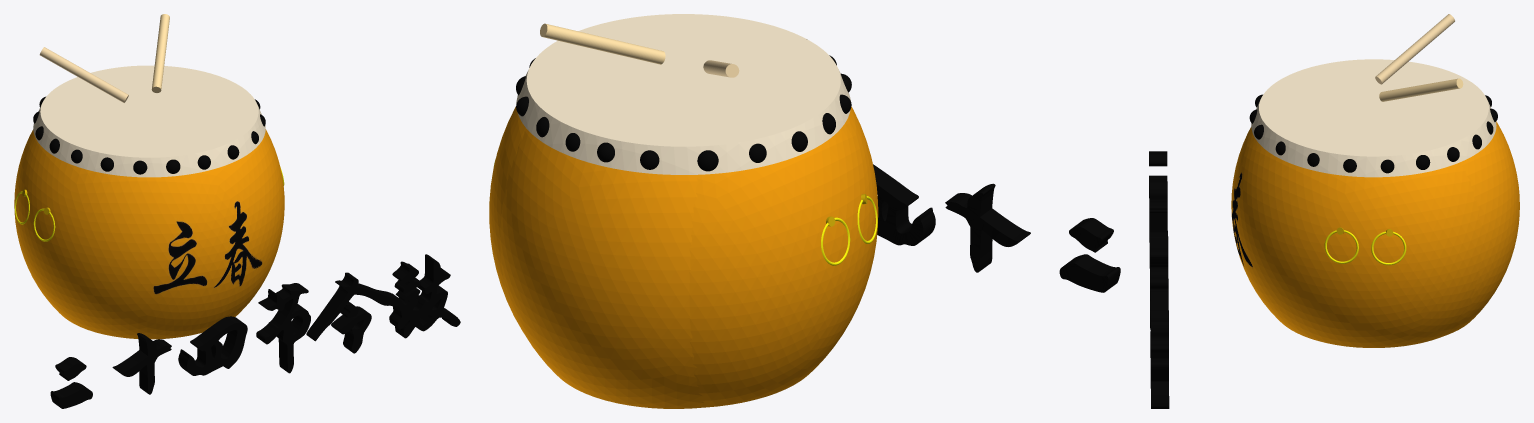
File: drum.glb
3 views of the same model, side by side, from view 1: azimuth 30°, elevation 25°; view 2: azimuth 150°, elevation 25°; view 3: azimuth 270°, elevation 25° (orthographic). The views are drawn at different scales.
Bounding box in the file's own units: 358 × 210 × 271.
31 materials, 1 textured.
